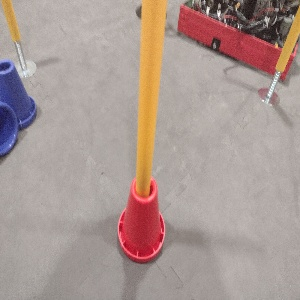Blue_1: (0, 59, 39, 126)
Red_1: (113, 171, 168, 263)
